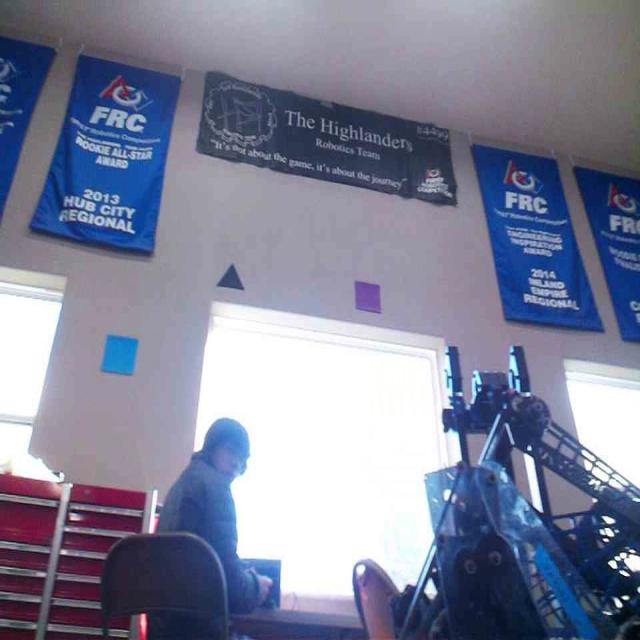square_blue: (100, 332, 139, 377)
square_purple: (352, 278, 381, 311)
triangle_black: (216, 262, 245, 291)
